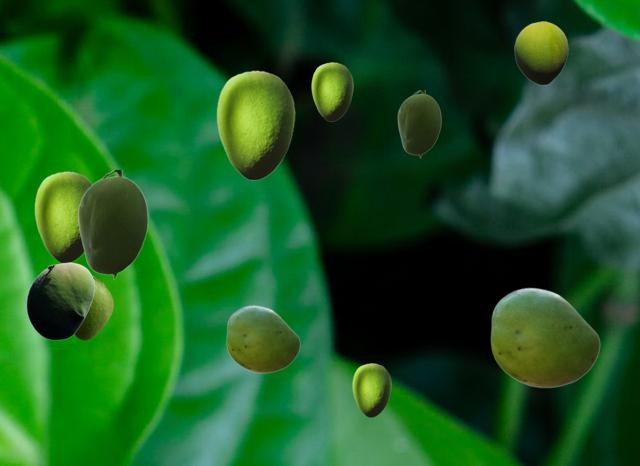green_mango: (490, 287, 599, 387), (216, 70, 294, 179), (77, 170, 147, 279), (26, 262, 94, 339), (34, 171, 91, 262), (226, 305, 299, 372), (514, 21, 567, 84), (397, 90, 440, 157), (74, 276, 112, 339), (311, 62, 352, 120), (352, 363, 390, 416)
